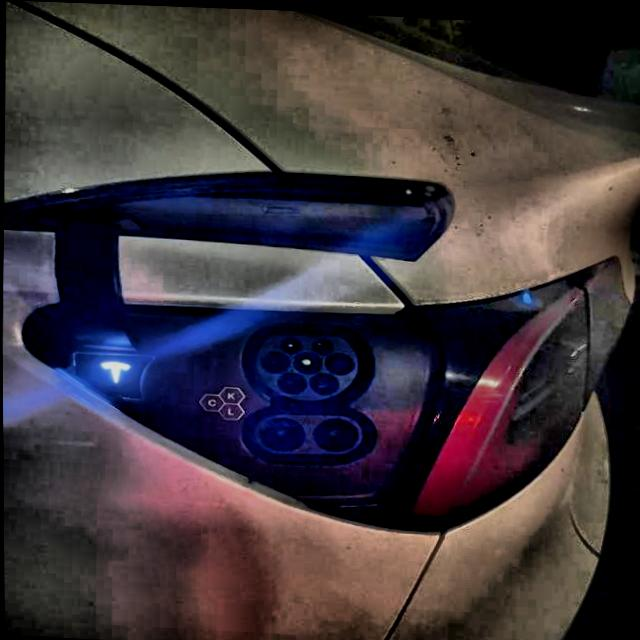inlet: (255, 332, 357, 398)
inlet-above-left: (279, 335, 301, 351)
inlet-above-right: (311, 336, 332, 352)
inlet-below-left: (276, 370, 307, 391)
inlet-below-right: (308, 370, 338, 392)
inlet-center: (292, 349, 323, 372)
inlet-center-left: (259, 348, 290, 372)
inlet-center-right: (324, 350, 353, 372)
